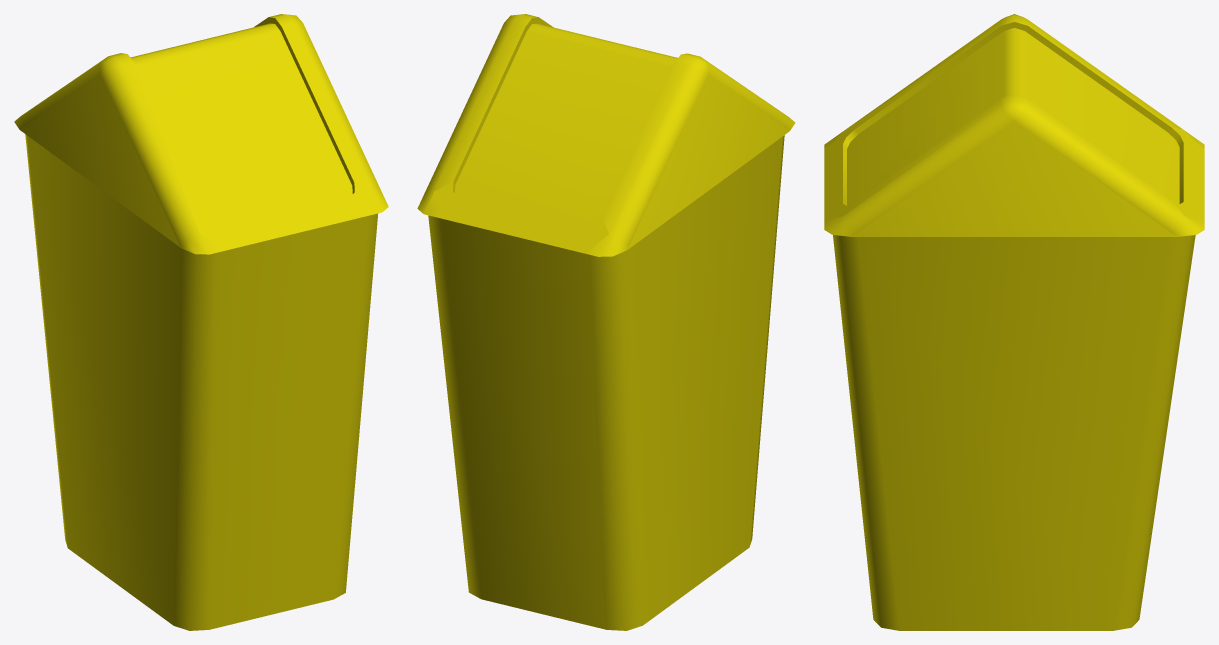
File: trash-yellow.fbx
The picture shows the model from 3 angles, left to right: view 1: azimuth 30°, elevation 25°; view 2: azimuth 150°, elevation 25°; view 3: azimuth 270°, elevation 25°; orthographic projection.
Visible parts, largest first — view 1: trash-yellow; view 2: trash-yellow; view 3: trash-yellow.
Boxes of the visible parts, <box> form: trash-yellow: <box>14,14,388,630</box>; trash-yellow: <box>417,14,795,630</box>; trash-yellow: <box>824,14,1204,630</box>.
Size of the model in its own units: 0.201 by 0.501 by 0.3253.
